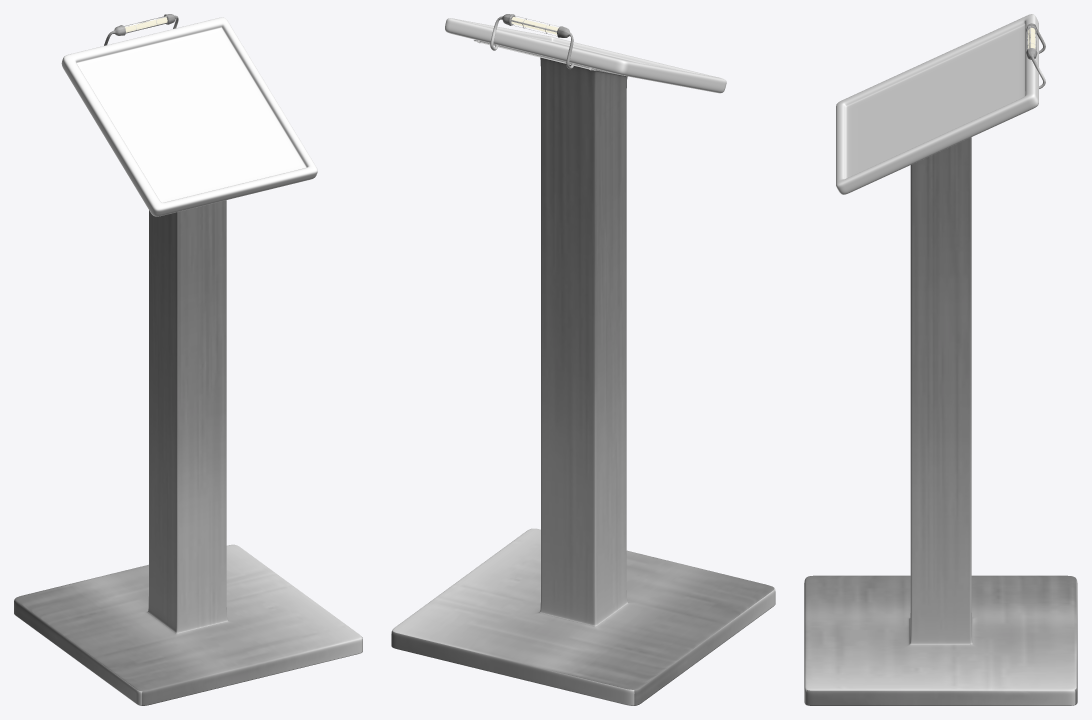
The model's file is panneau-transformed.glb.
The picture shows the model from 3 angles, left to right: view 1: azimuth 30°, elevation 25°; view 2: azimuth 150°, elevation 25°; view 3: azimuth 270°, elevation 25°; orthographic projection. The views are drawn at different scales.
Parts seen in each view (by area): view 1: Light support, Panneau; view 2: Light support, Panneau; view 3: Light support, Panneau.
Boxes of the visible parts, x1=… form: Light support: x1=14, y1=14, x2=362, y2=705; Panneau: x1=61, y1=17, x2=317, y2=216; Light support: x1=391, y1=14, x2=775, y2=705; Panneau: x1=445, y1=18, x2=726, y2=93; Light support: x1=804, y1=23, x2=1077, y2=705; Panneau: x1=836, y1=14, x2=1038, y2=194.
Size of the model in its own units: 0.1909 by 0.4714 by 0.1909.
Materials: 3 (1 with a texture image).
